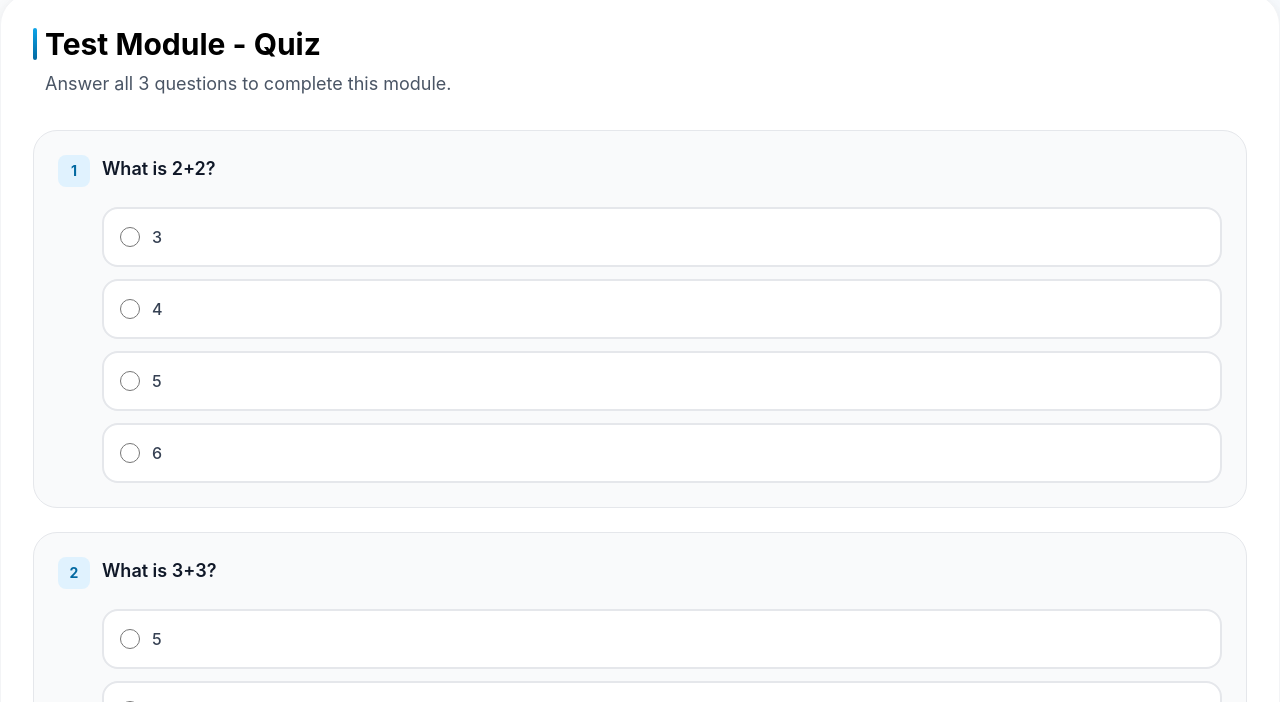
Test: Quiz Component › should disable submit button when not all questions are answered
Check: the heading "Test Module - Quiz" is shown, box [33,26,321,62]
Step 1. Click the radio button labelled "4" → (130, 309), box [120,299,140,319]
(page scrolled)
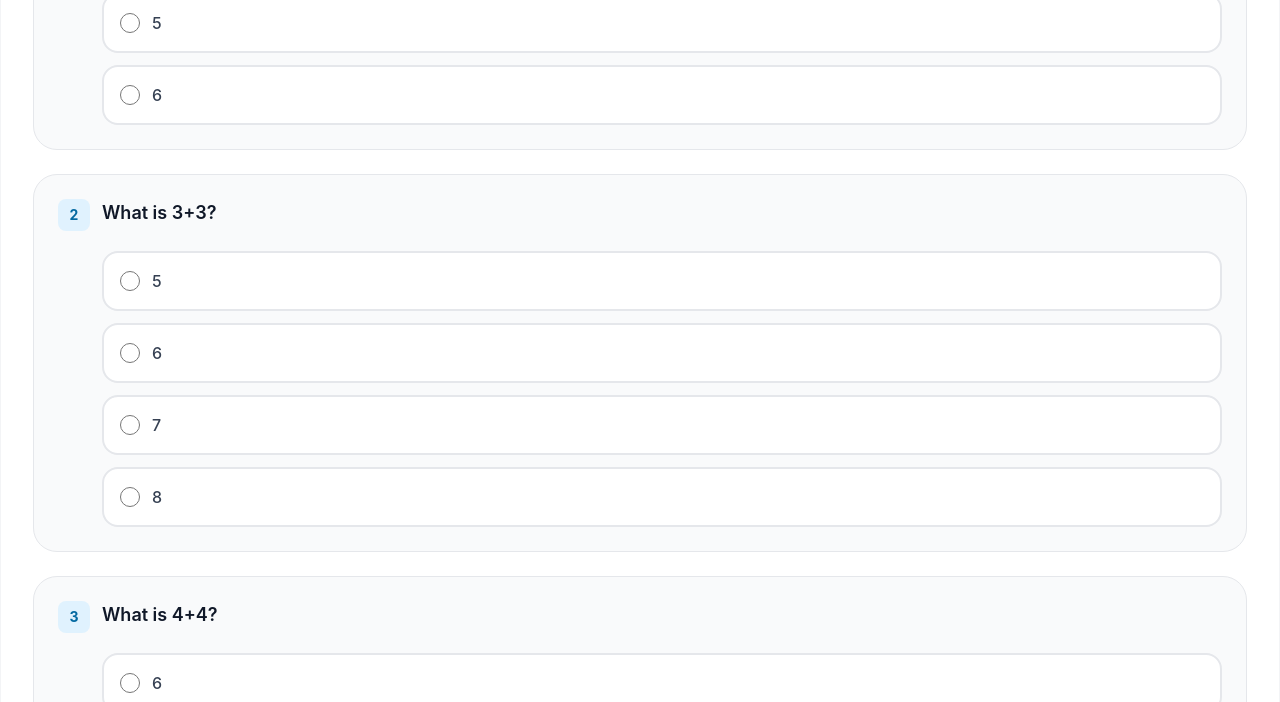
Step 2. Click the radio button labelled "6" below "What is 3+3?" → (130, 353), box [120,343,140,363]
(page scrolled)
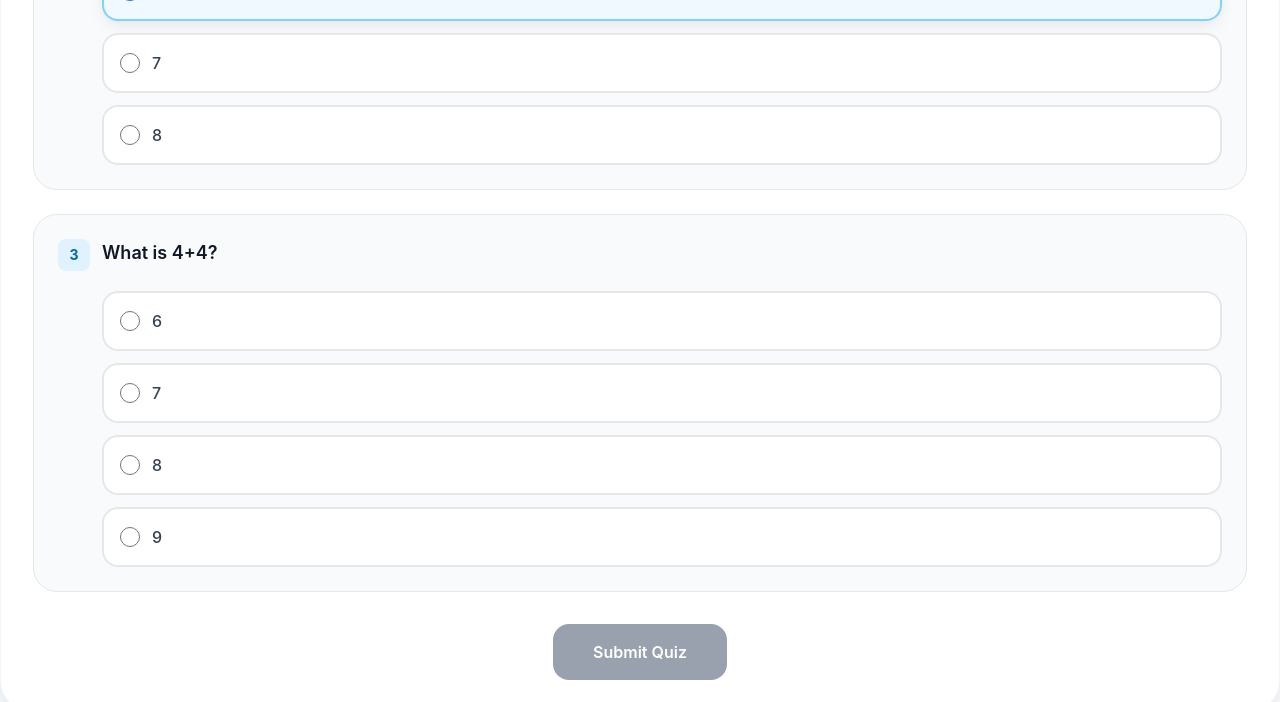
Check: the button "Submit Quiz" is disabled, box [553,624,727,680]
// Answer the third question
Step 3. Click the radio button labelled "8" below "What is 4+4?" → (130, 465), box [120,455,140,475]
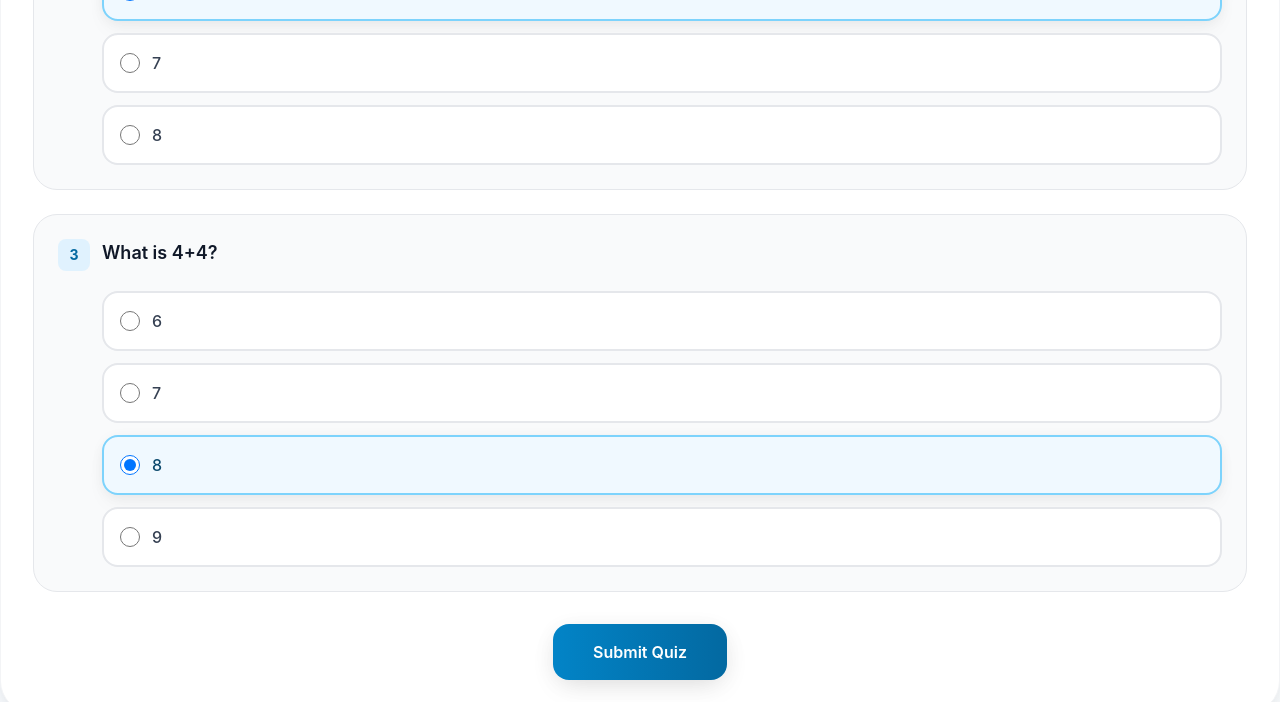
Check: the button "Submit Quiz" is enabled, box [553,624,727,680]
